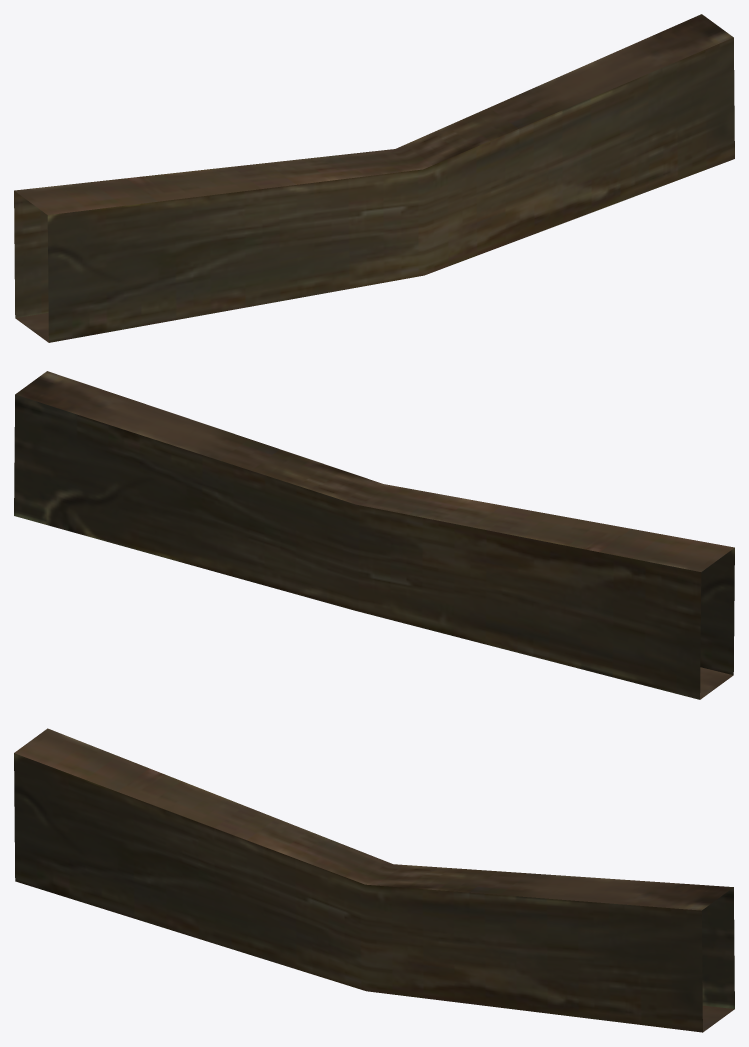
The model's file is Z_mutiao005.fbx.
3 renders of one model, top to bottom at view 1: azimuth 30°, elevation 25°; view 2: azimuth 150°, elevation 25°; view 3: azimuth 330°, elevation 25°, orthographic.
Parts seen in each view (by area): view 1: Z_mutiao005; view 2: Z_mutiao005; view 3: Z_mutiao005.
Part boxes in pixels (<box>): Z_mutiao005: <box>14,14,734,342</box>; Z_mutiao005: <box>14,371,734,699</box>; Z_mutiao005: <box>14,728,734,1032</box>.
Size of the model in its own units: 136 by 28.38 by 15.73.
